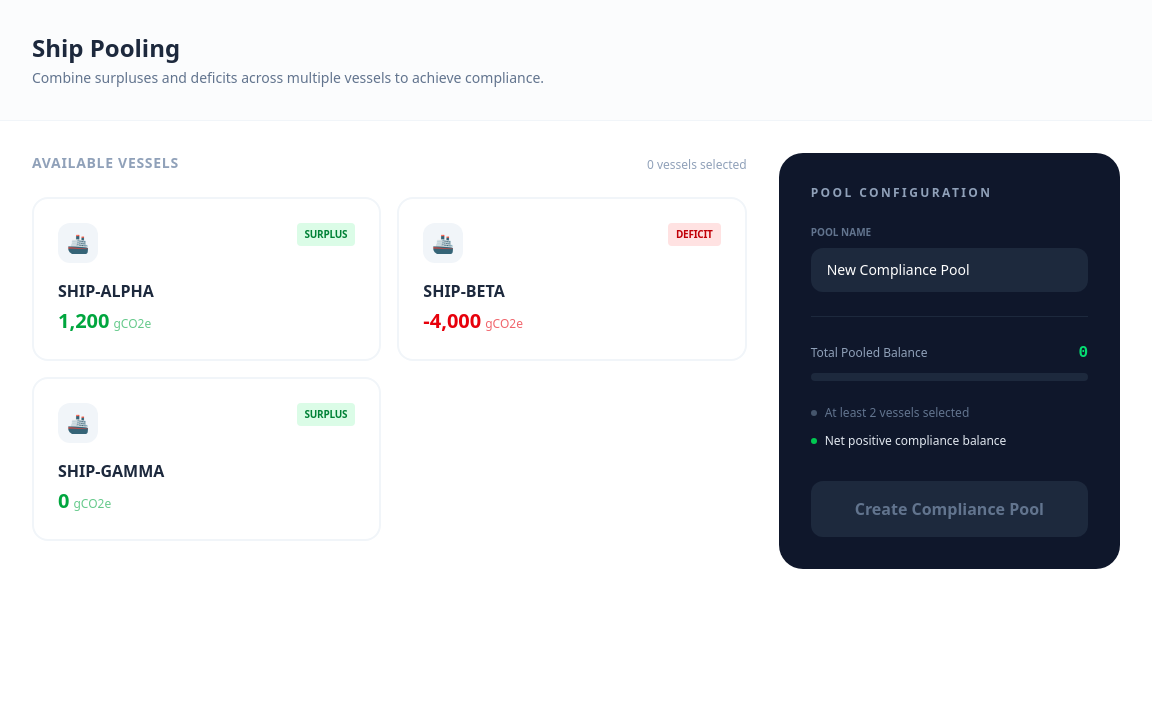
PoolingTab › disables Create Pool button when net balance is negative
Check: the heading "SHIP-ALPHA" is shown, box 58,280 -> 154,302
Check: the heading "SHIP-BETA" is shown, box 423,280 -> 505,302
Click the button "🚢 Surplus SHIP-ALPHA 1,200gCO2e" at coordinates (78, 243), box 32,197 -> 381,361
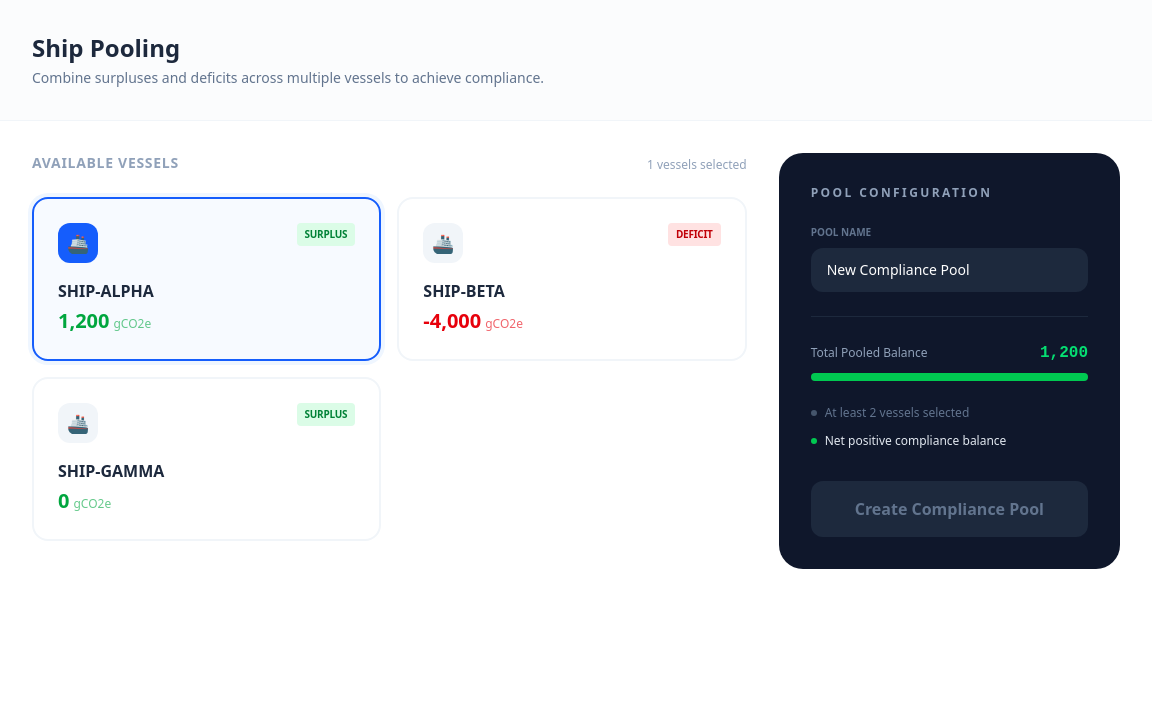
Click the button "🚢 Deficit SHIP-BETA -4,000gCO2e" at coordinates (443, 243), box 397,197 -> 747,361
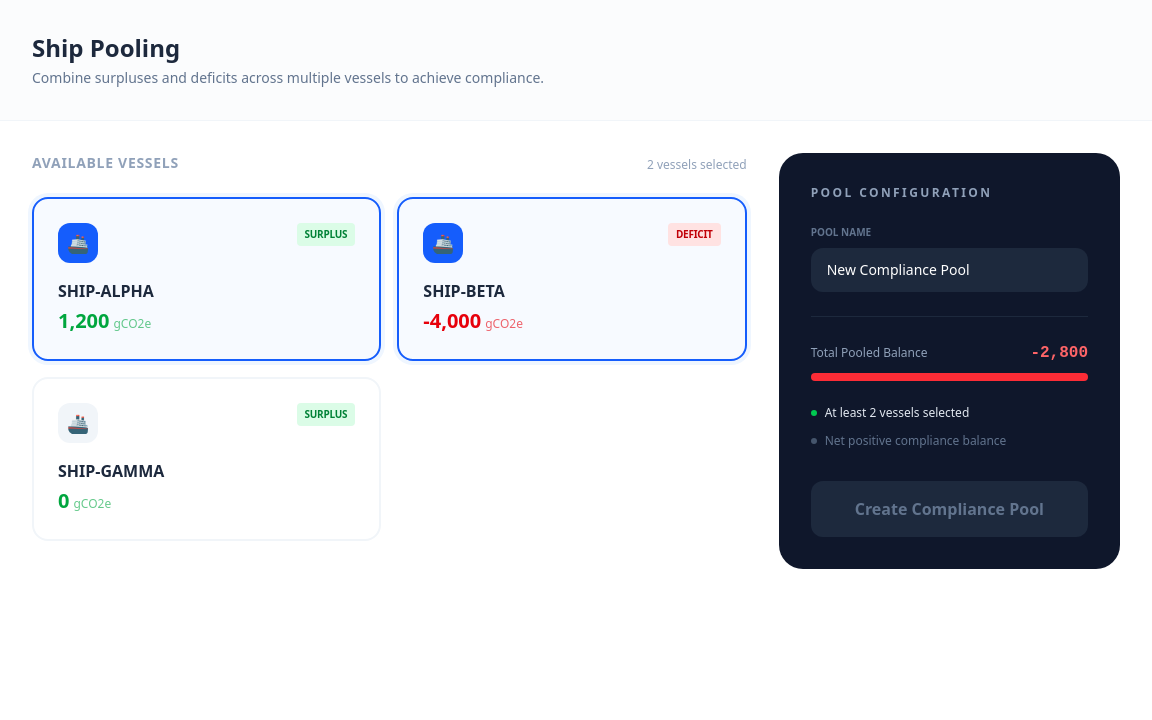
Check: the button "Create Compliance Pool" is disabled, box 811,481 -> 1088,537
Check: the text "-2,800" is shown, box 1030,341 -> 1088,365
